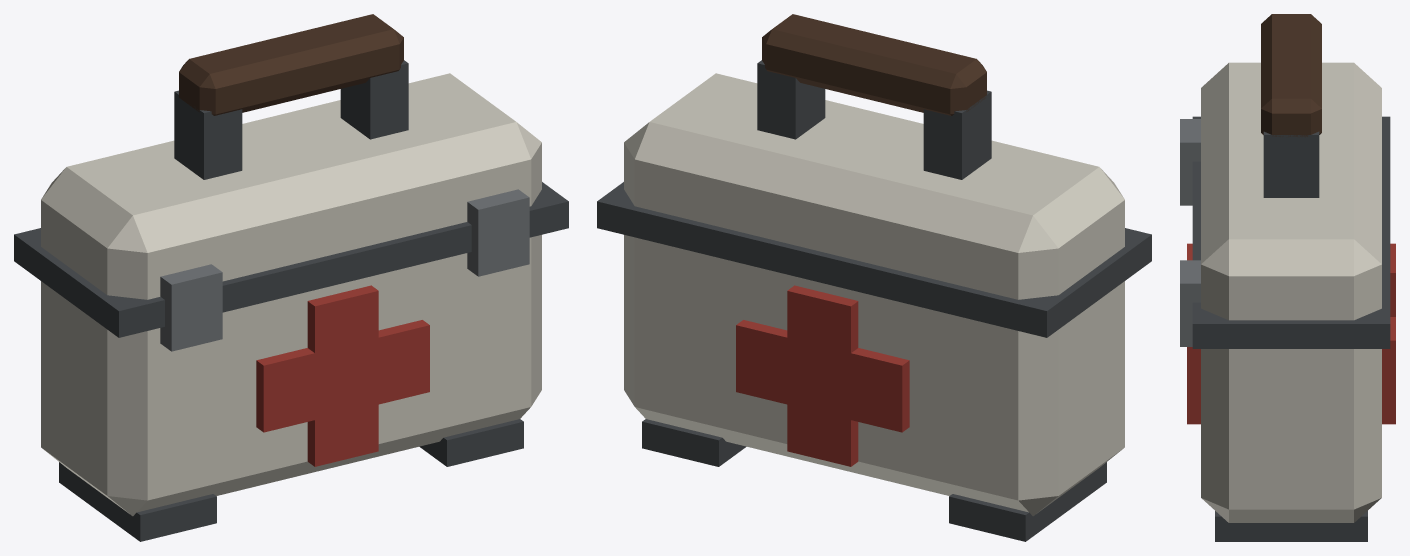
File: item_med_kit.glb
3 views of the same model, side by side, from view 1: azimuth 30°, elevation 25°; view 2: azimuth 150°, elevation 25°; view 3: azimuth 270°, elevation 25° (orthographic). The views are drawn at different scales.
Visible parts, largest first — view 1: med_kit; view 2: med_kit; view 3: med_kit.
Boxes of the visible parts, left/top/right/bottom form: med_kit: left=14, top=14, right=568, bottom=541; med_kit: left=597, top=14, right=1151, bottom=541; med_kit: left=1180, top=14, right=1395, bottom=541.
Bounding box in the file's own units: 0.352 × 0.315 × 0.155.
